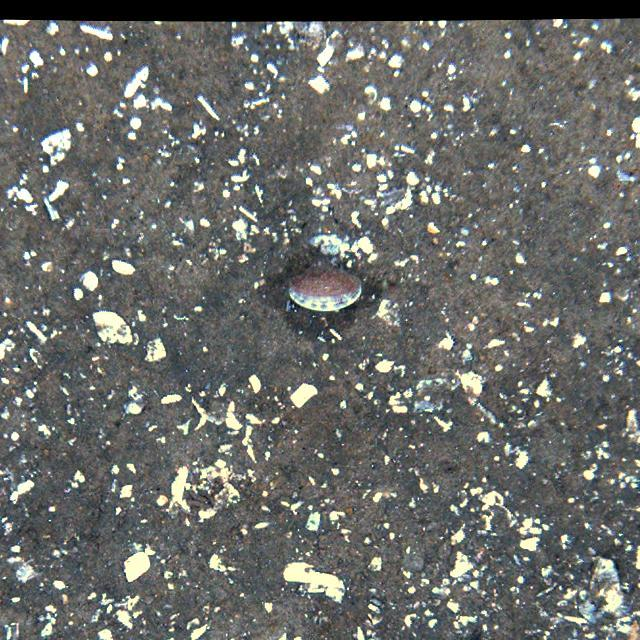scallop: (284, 265, 366, 317)
